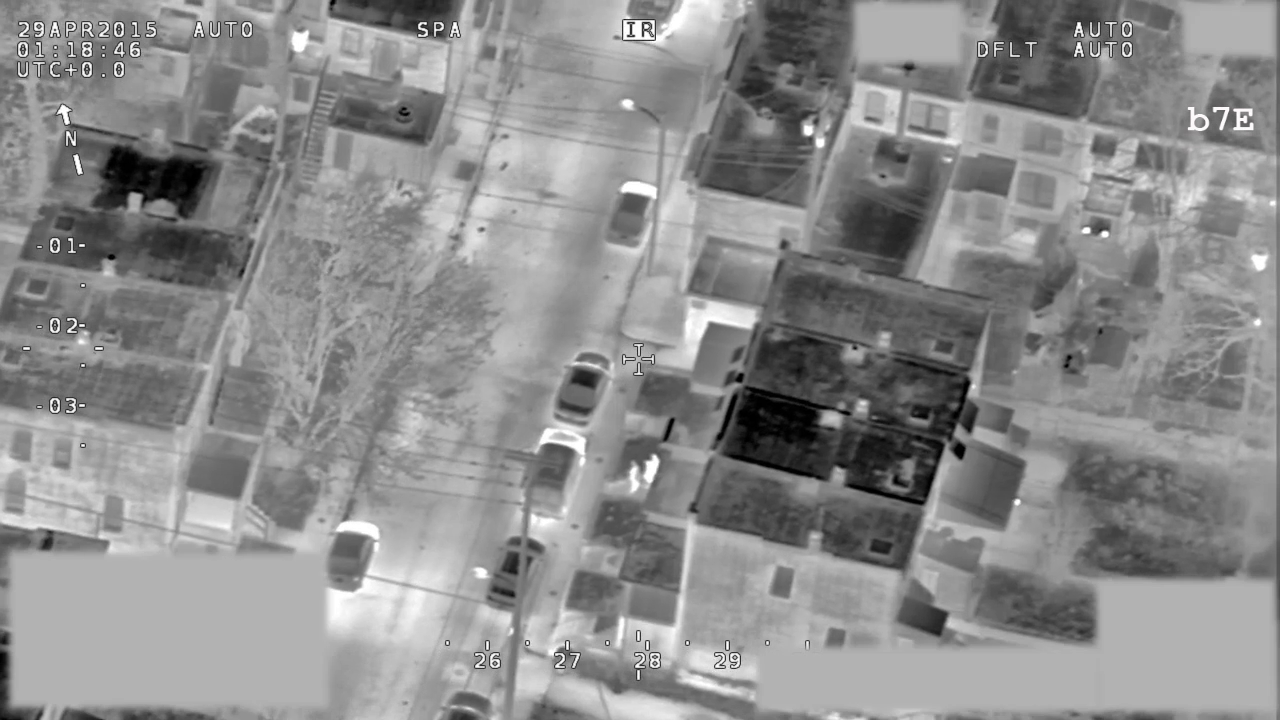vehicle: (514, 424, 592, 519), (550, 345, 614, 430), (484, 532, 547, 614), (604, 179, 660, 254), (327, 516, 381, 591), (625, 1, 691, 43), (435, 688, 498, 720)
